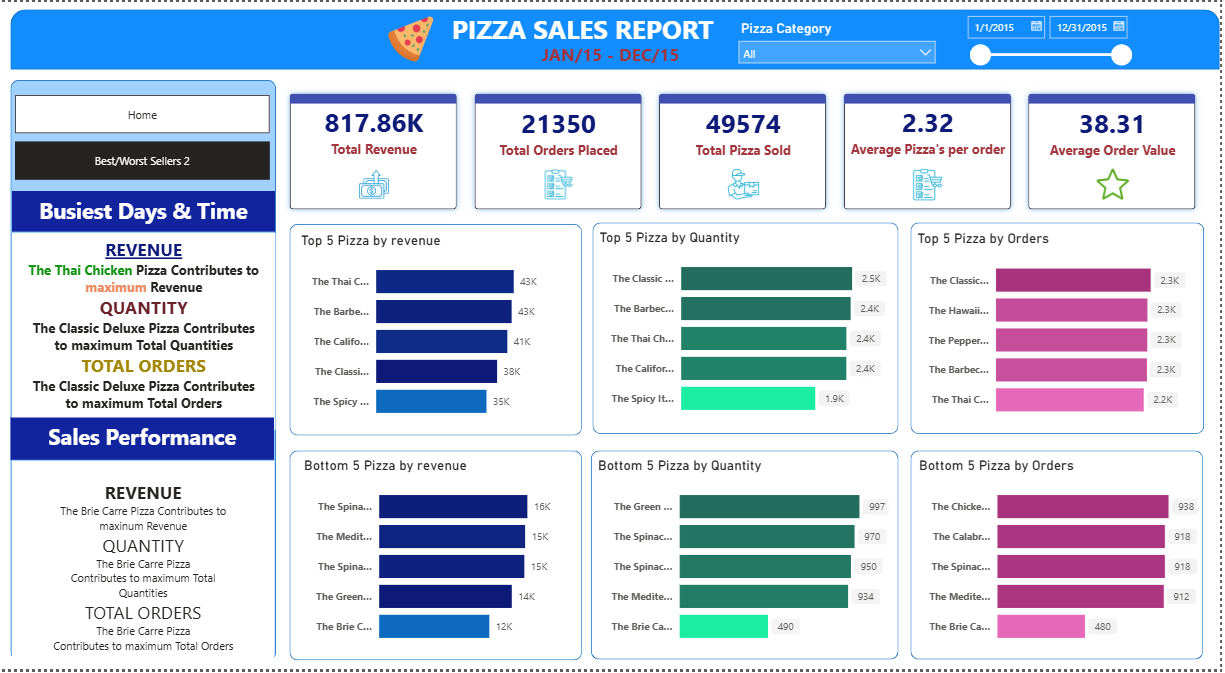

The page's visual inventory and layout, read from the dashboard file:
{"tool":"powerbi","page":{"name":"Best/Worst Sellers 2","canvas":[1500,820],"ordinal":1},"visuals":[{"type":"cardVisual","fields":{"Data":["pizza_sales.Total Revenue","pizza_sales.Total Orders Placed","pizza_sales.Total Pizza Sold","pizza_sales.Average Pizza's per order","pizza_sales.Average Order Value"]},"box":[340,96,1150,176],"z":0},{"type":"shape","box":[12.9,9.2,1486.4,73.8],"z":1000},{"type":"textbox","box":[516,6,400,54],"z":2000},{"type":"textbox","box":[643,44,213.9,42.4],"z":3000},{"type":"image","box":[442,16,124,58],"z":4000},{"type":"shape","box":[355.9,272.9,359.6,260],"z":5000},{"type":"shape","box":[12.9,95.9,326.4,713.7],"z":6000},{"type":"textbox","box":[14,232,323,50],"z":7000},{"type":"textbox","box":[14,284,324,242],"z":8000},{"type":"textbox","box":[12,510,324,52],"z":9000},{"type":"textbox","box":[14.8,565,322.7,246],"z":10000},{"type":"slicer","fields":{"Values":["pizza_sales.pizza_category"]},"box":[898,16,262,68],"z":11000},{"type":"slicer","fields":{"Values":["pizza_sales.order_date"]},"box":[1176.5,7.4,223.1,77.5],"z":12000},{"type":"shape","box":[1119.4,271.1,361,260],"z":13000},{"type":"shape","box":[728.4,271.1,376.2,260],"z":14000},{"type":"shape","box":[355.9,551.4,359.6,258],"z":15000},{"type":"shape","box":[726.6,551.4,378,257],"z":16000},{"type":"shape","box":[1119.4,551.4,359.6,257],"z":17000},{"type":"barChart","title":"Top 5 Pizza by revenue","fields":{"Category":["pizza_sales.pizza_name"],"Y":["pizza_sales.Total Revenue"]},"box":[365.1,282.2,335.6,243.4],"z":18000},{"type":"barChart","title":"Bottom 5 Pizza by revenue","fields":{"Category":["pizza_sales.pizza_name"],"Y":["pizza_sales.Total Revenue"]},"box":[368.8,558.8,335.6,243.4],"z":19000},{"type":"barChart","title":"Top 5 Pizza by Quantity","fields":{"Category":["pizza_sales.pizza_name"],"Y":["pizza_sales.Total Pizza Sold"]},"box":[732.1,278.5,367,243.4],"z":20000},{"type":"barChart","title":"Bottom 5 Pizza by Quantity","fields":{"Category":["pizza_sales.pizza_name"],"Y":["pizza_sales.Total Pizza Sold"]},"box":[730.3,558.8,367,243.4],"z":21000},{"type":"barChart","title":"Top 5 Pizza by Orders","fields":{"Category":["pizza_sales.pizza_name"],"Y":["pizza_sales.Total Orders Placed"]},"box":[1123.1,280.3,351,243.4],"z":22000},{"type":"barChart","title":"Bottom 5 Pizza by Orders","fields":{"Category":["pizza_sales.pizza_name"],"Y":["pizza_sales.Total Orders Placed"]},"box":[1124.9,558.8,352.2,243.4],"z":23000},{"type":"pageNavigator","box":[19,115,313,105],"z":24000}]}

Visuals, with their boxes in screenshot pixels (x1, y1, x2, y2), scaled from the page's 1500x820 canvas onto the 1225x673 screenshot:
cardVisual - pizza_sales.Total Revenue x pizza_sales.Total Orders Placed: {"x1": 278, "y1": 79, "x2": 1217, "y2": 223}
shape: {"x1": 11, "y1": 8, "x2": 1224, "y2": 68}
textbox: {"x1": 421, "y1": 5, "x2": 748, "y2": 49}
textbox: {"x1": 525, "y1": 36, "x2": 700, "y2": 71}
image: {"x1": 361, "y1": 13, "x2": 462, "y2": 61}
shape: {"x1": 291, "y1": 224, "x2": 584, "y2": 437}
shape: {"x1": 11, "y1": 79, "x2": 277, "y2": 664}
textbox: {"x1": 11, "y1": 190, "x2": 275, "y2": 231}
textbox: {"x1": 11, "y1": 233, "x2": 276, "y2": 432}
textbox: {"x1": 10, "y1": 419, "x2": 274, "y2": 461}
textbox: {"x1": 12, "y1": 464, "x2": 276, "y2": 666}
slicer - pizza_sales.pizza_category: {"x1": 733, "y1": 13, "x2": 947, "y2": 69}
slicer - pizza_sales.order_date: {"x1": 961, "y1": 6, "x2": 1143, "y2": 70}
shape: {"x1": 914, "y1": 223, "x2": 1209, "y2": 436}
shape: {"x1": 595, "y1": 223, "x2": 902, "y2": 436}
shape: {"x1": 291, "y1": 453, "x2": 584, "y2": 664}
shape: {"x1": 593, "y1": 453, "x2": 902, "y2": 663}
shape: {"x1": 914, "y1": 453, "x2": 1208, "y2": 663}
"Top 5 Pizza by revenue" barChart: {"x1": 298, "y1": 232, "x2": 572, "y2": 431}
"Bottom 5 Pizza by revenue" barChart: {"x1": 301, "y1": 459, "x2": 575, "y2": 658}
"Top 5 Pizza by Quantity" barChart: {"x1": 598, "y1": 229, "x2": 898, "y2": 428}
"Bottom 5 Pizza by Quantity" barChart: {"x1": 596, "y1": 459, "x2": 896, "y2": 658}
"Top 5 Pizza by Orders" barChart: {"x1": 917, "y1": 230, "x2": 1204, "y2": 430}
"Bottom 5 Pizza by Orders" barChart: {"x1": 919, "y1": 459, "x2": 1206, "y2": 658}
pageNavigator: {"x1": 16, "y1": 94, "x2": 271, "y2": 181}
